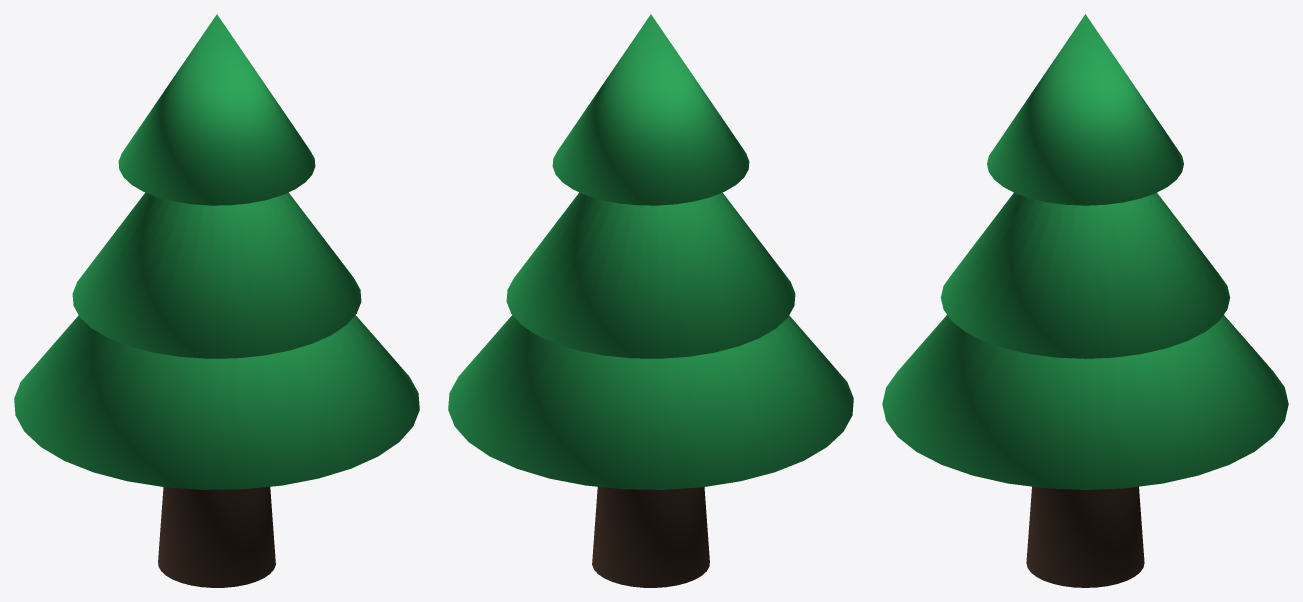
File: PineTree.fbx
3 renders of one model, left to right at view 1: azimuth 30°, elevation 25°; view 2: azimuth 150°, elevation 25°; view 3: azimuth 270°, elevation 25°, orthographic.
Visible parts, largest first — view 1: PineTree; view 2: PineTree; view 3: PineTree.
Boxes of the visible parts, x1,y1,x2,y2 form: PineTree: [14, 14, 419, 587]; PineTree: [448, 14, 853, 587]; PineTree: [882, 14, 1288, 587].
Size of the model in its own units: 531 by 791 by 531.
